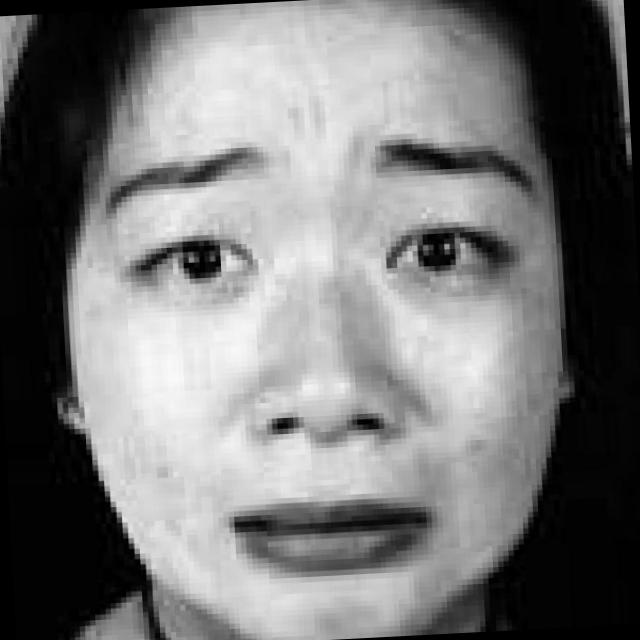fear: (74, 59, 564, 632)
